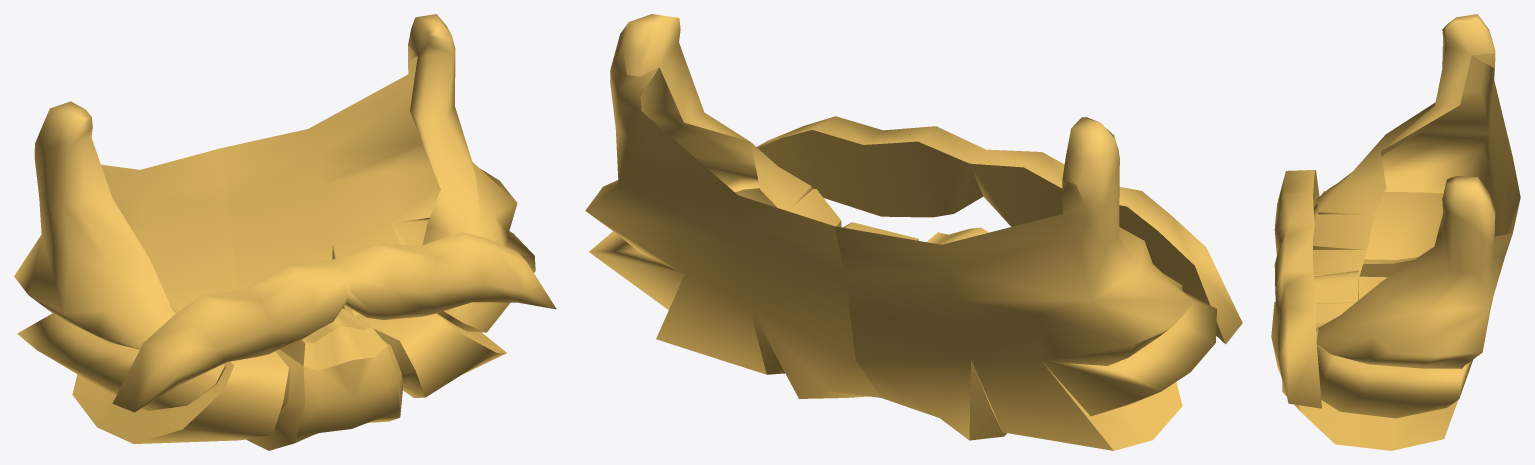
The model's file is Beard_Yellow_16.fbx.
3 renders of one model, left to right at view 1: azimuth 30°, elevation 25°; view 2: azimuth 150°, elevation 25°; view 3: azimuth 270°, elevation 25°, orthographic. The views are drawn at different scales.
Visible parts, largest first — view 1: Beard_Yellow_16; view 2: Beard_Yellow_16; view 3: Beard_Yellow_16.
Part boxes in pixels (box(x1,y1,x2,y2)): Beard_Yellow_16: box(14, 14, 556, 450); Beard_Yellow_16: box(585, 14, 1242, 450); Beard_Yellow_16: box(1271, 14, 1520, 450).
Bounding box in the file's own units: 61.15 × 39 × 30.01.
